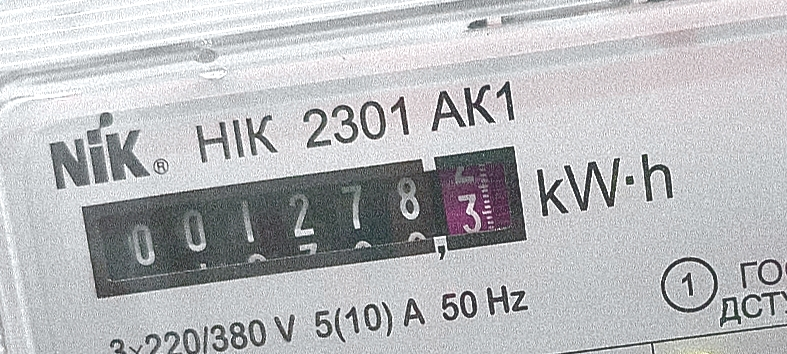0: (129, 218, 160, 267), (181, 205, 209, 253)
1: (239, 195, 259, 245)
2: (287, 189, 317, 237), (450, 162, 478, 185)
3: (456, 187, 485, 233)
7: (341, 181, 366, 230)
8: (395, 173, 423, 221)
screen: (61, 133, 547, 308)
